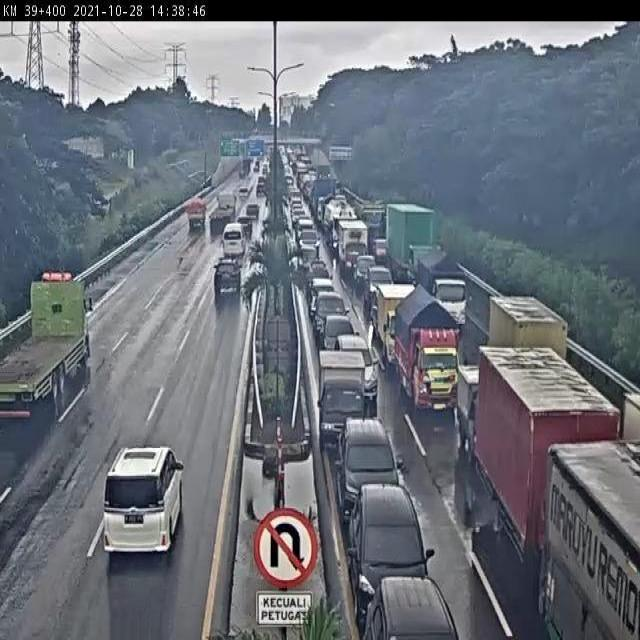big truck: (479, 345, 626, 595), (1, 268, 95, 433), (383, 203, 433, 281), (209, 191, 237, 236)
car: (349, 486, 436, 618), (102, 445, 183, 552), (335, 418, 399, 530), (363, 577, 460, 640), (335, 336, 380, 403), (319, 315, 360, 369), (312, 290, 350, 342), (214, 258, 242, 302), (367, 265, 395, 308), (309, 276, 334, 316), (355, 255, 376, 288), (236, 215, 254, 236), (244, 207, 260, 225)
small bus: (223, 223, 245, 256)
small truck: (393, 287, 462, 416), (488, 295, 567, 404), (458, 365, 521, 468), (317, 348, 369, 449), (419, 250, 468, 330), (377, 283, 420, 369), (339, 220, 369, 276), (184, 197, 206, 235)
